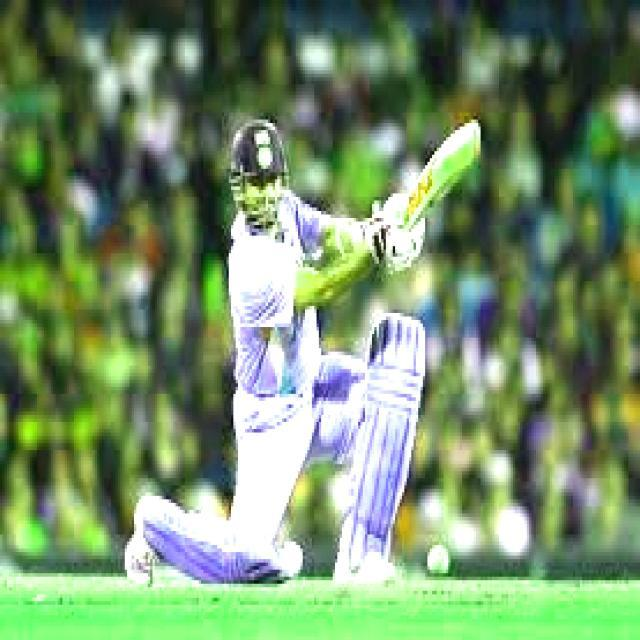bat: (359, 95, 509, 247)
toe: (435, 112, 519, 166)
